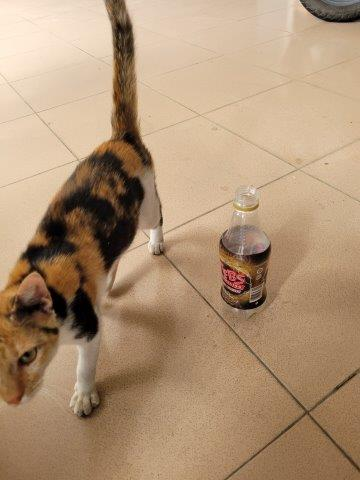botolplastik: (218, 188, 272, 317)
